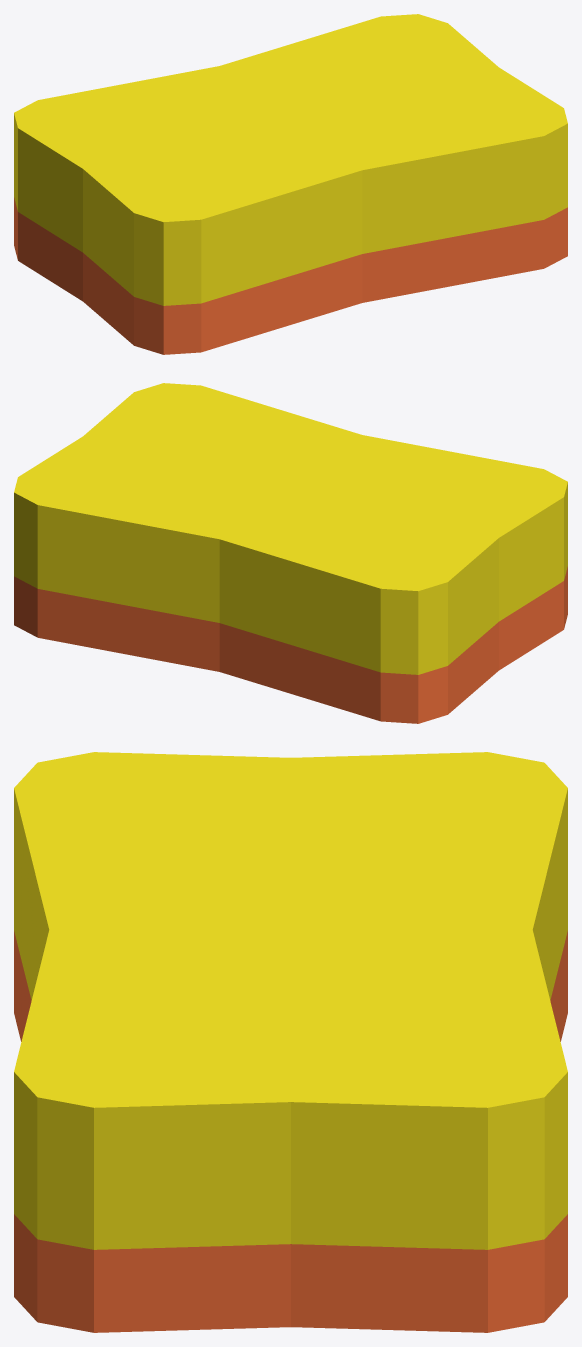
File: Sponge_geo.fbx
3 renders of one model, top to bottom at view 1: azimuth 30°, elevation 25°; view 2: azimuth 150°, elevation 25°; view 3: azimuth 270°, elevation 25°, orthographic. The views are drawn at different scales.
Visible parts, largest first — view 1: Sponge_geo; view 2: Sponge_geo; view 3: Sponge_geo.
Part boxes in pixels (left/top/right/bottom): Sponge_geo: left=14, top=14, right=567, bottom=354; Sponge_geo: left=14, top=383, right=567, bottom=723; Sponge_geo: left=14, top=752, right=567, bottom=1332.
Bounding box in the file's own units: 0.5681 × 0.3738 × 0.1676.
